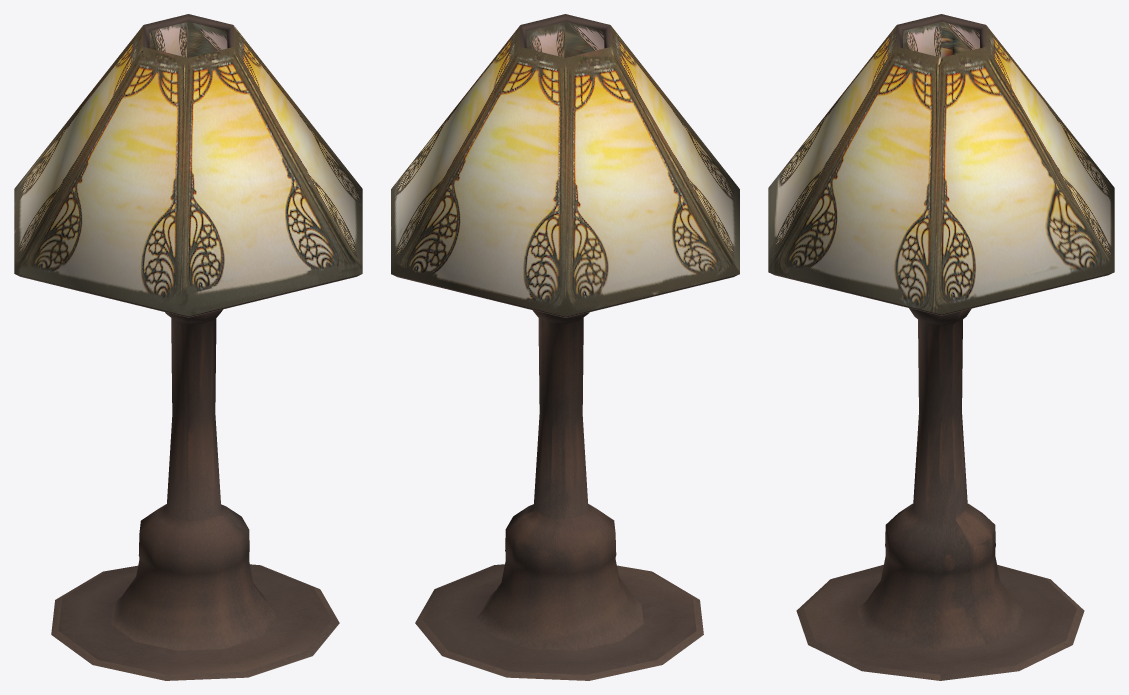
File: lamp fbx.fbx
3 views of the same model, side by side, from view 1: azimuth 30°, elevation 25°; view 2: azimuth 150°, elevation 25°; view 3: azimuth 270°, elevation 25° (orthographic).
Parts seen in each view (by area): view 1: Cone001lamp; view 2: Cone001lamp; view 3: Cone001lamp.
Boxes of the visible parts, x1=… form: Cone001lamp: x1=14, y1=14, x2=362, y2=680; Cone001lamp: x1=391, y1=14, x2=739, y2=680; Cone001lamp: x1=768, y1=14, x2=1114, y2=680.
Bounding box in the file's own units: 5.91 × 9.48 × 5.12.
1 material, 1 textured.
